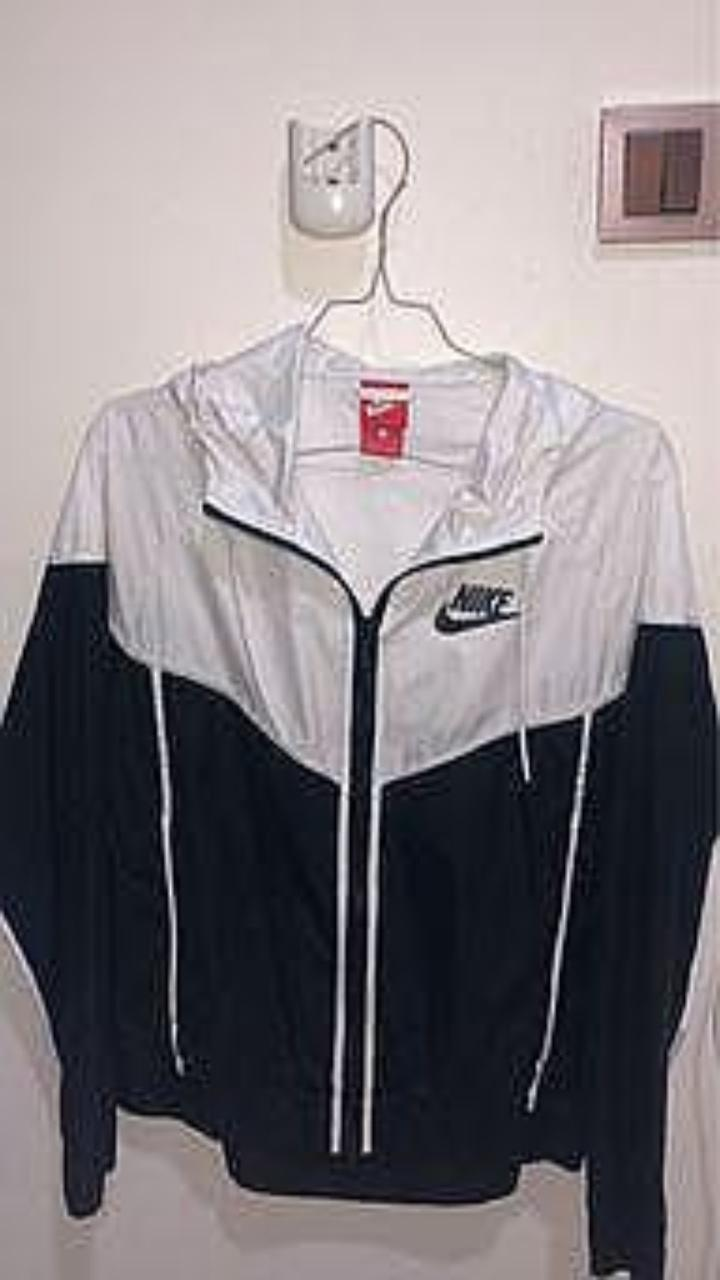Sports_Jacket: (0, 323, 717, 1279)
